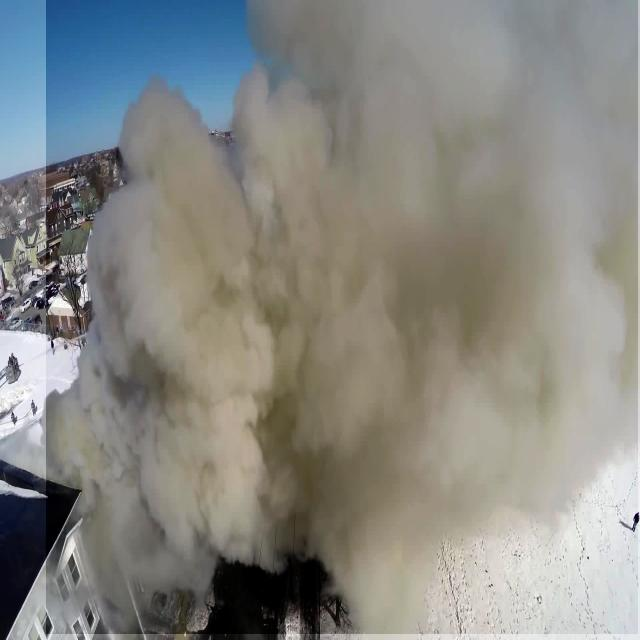Smoke: (46, 0, 638, 634)
